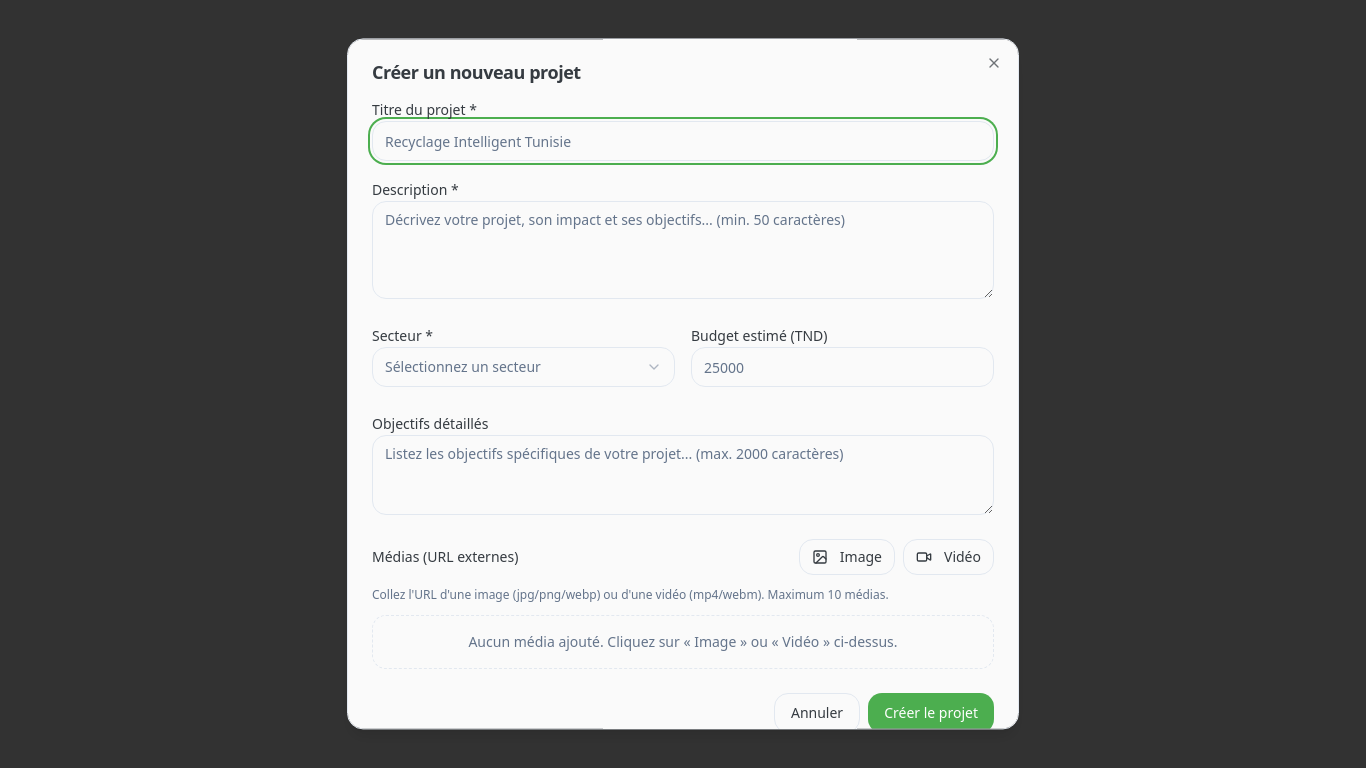
Test: CreateProjectModal — submit flow snapshot › adds an image media row with URL/caption fields, preview and remove control
Click the button "Image" at (847, 557), box [799, 539, 895, 575]
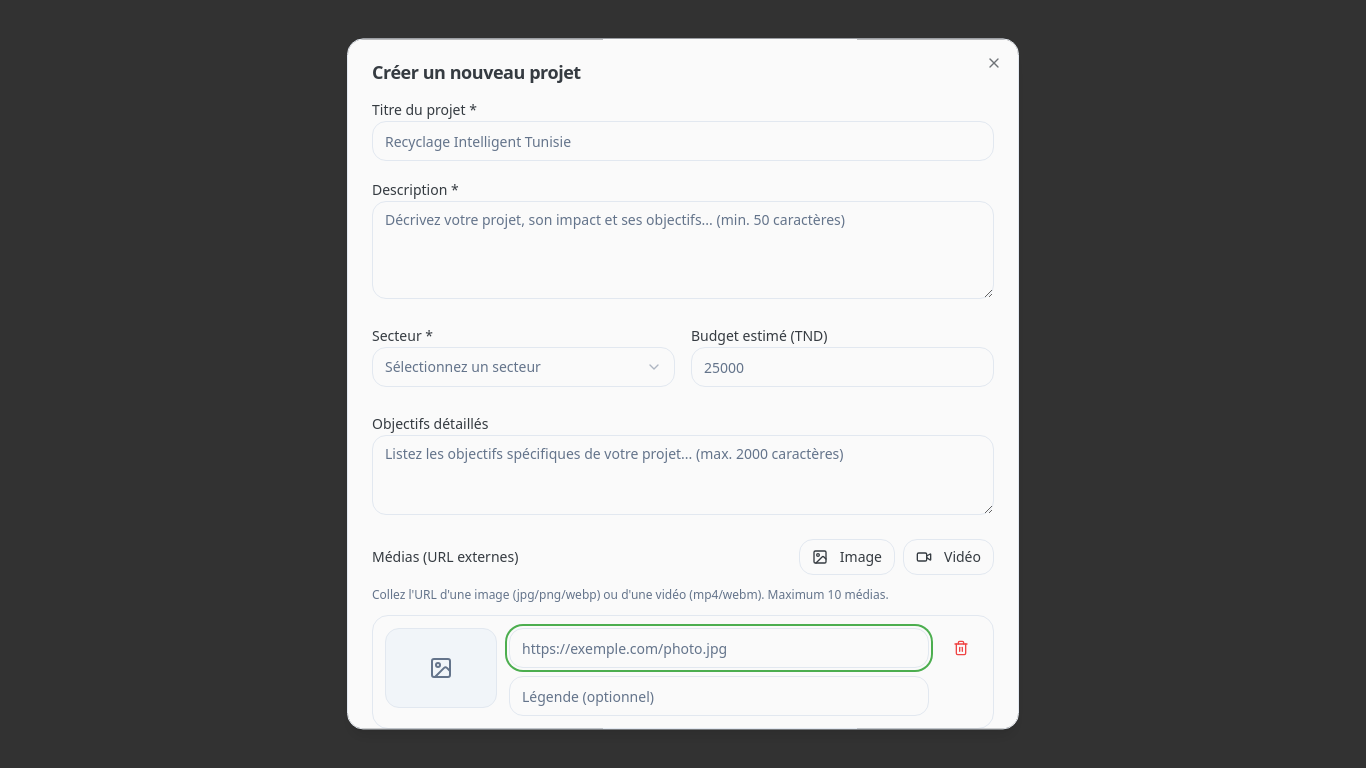
Result: the field with placeholder "https://exemple.com/photo.jpg" is shown at [509, 628, 929, 668]
Result: the field with placeholder "Légende (optionnel)" is shown at [509, 676, 929, 716]
Result: the icon named "Aperçu image" is shown at [429, 656, 453, 680]
